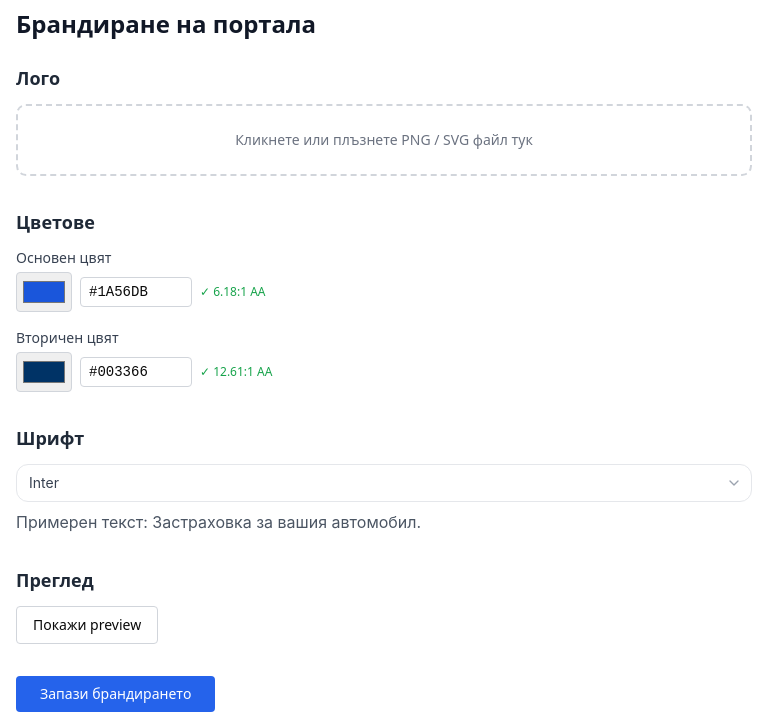
Scenario: BrandingPage › shows WCAG AA fail indicator when non-compliant color entered
This screenshot has width=769, height=725.
First text input is primary color hex
Replace the text in the field named "Основен цвят hex value" with "#FFFF00" at (136, 292), box x1=80 y1=277 x2=192 y2=307
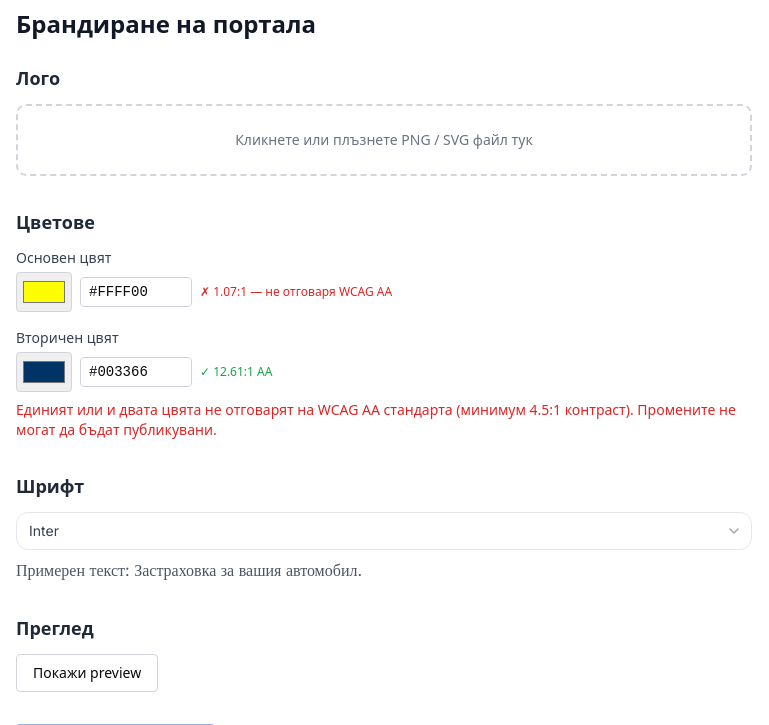
Expected: the text "✗ 1.07:1 — не отговаря WCAG AA" is shown, x1=200 y1=284 x2=392 y2=300
